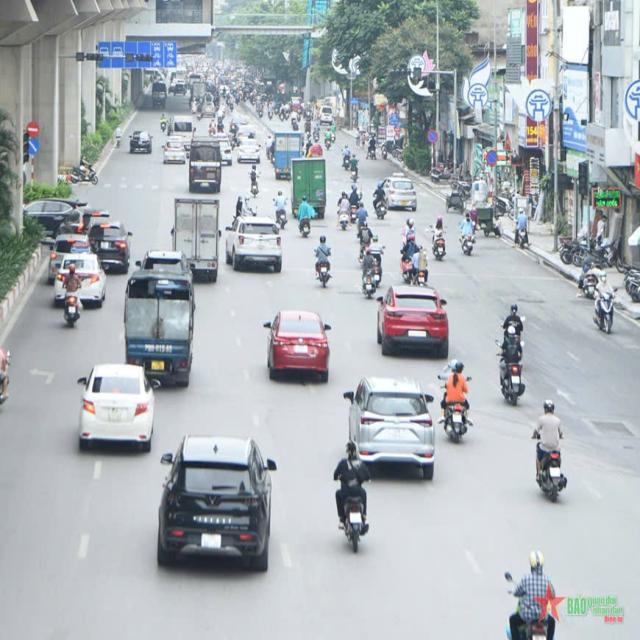ben: (121, 264, 197, 396), (169, 187, 223, 286), (289, 152, 330, 226), (272, 124, 308, 184)
car: (158, 420, 278, 580), (342, 373, 442, 484), (73, 356, 158, 454), (376, 276, 453, 360), (262, 303, 335, 386), (224, 214, 286, 278), (90, 219, 135, 280), (383, 168, 419, 215), (128, 124, 156, 158), (162, 134, 188, 168)
motobyte: (329, 438, 377, 558), (502, 547, 562, 640), (530, 396, 572, 509), (434, 354, 477, 447), (492, 325, 528, 411), (591, 269, 619, 341), (58, 262, 83, 328), (313, 231, 340, 292), (71, 150, 103, 191), (359, 244, 377, 305), (430, 212, 450, 264), (411, 243, 432, 290), (272, 187, 292, 234), (458, 210, 477, 256), (296, 194, 315, 238), (371, 180, 389, 221), (336, 187, 351, 234), (246, 162, 264, 200), (348, 151, 361, 187), (340, 141, 353, 174), (324, 127, 334, 152)
